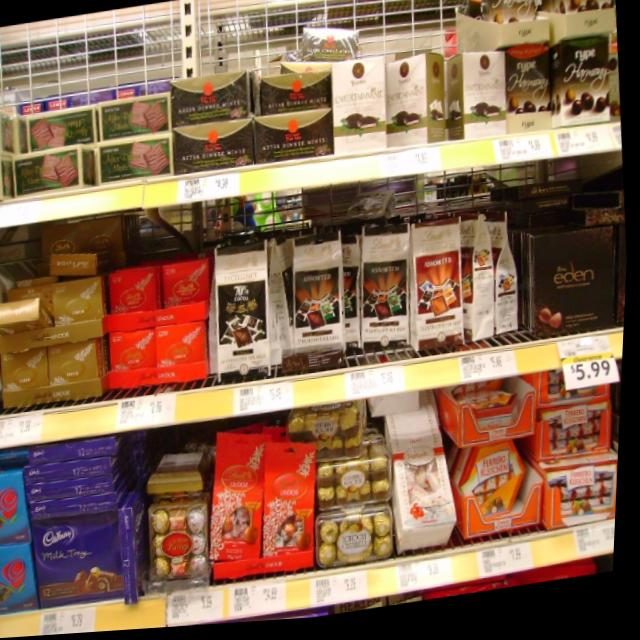q136: (551, 36, 616, 143), (560, 0, 619, 39)
q52: (206, 235, 280, 380)
